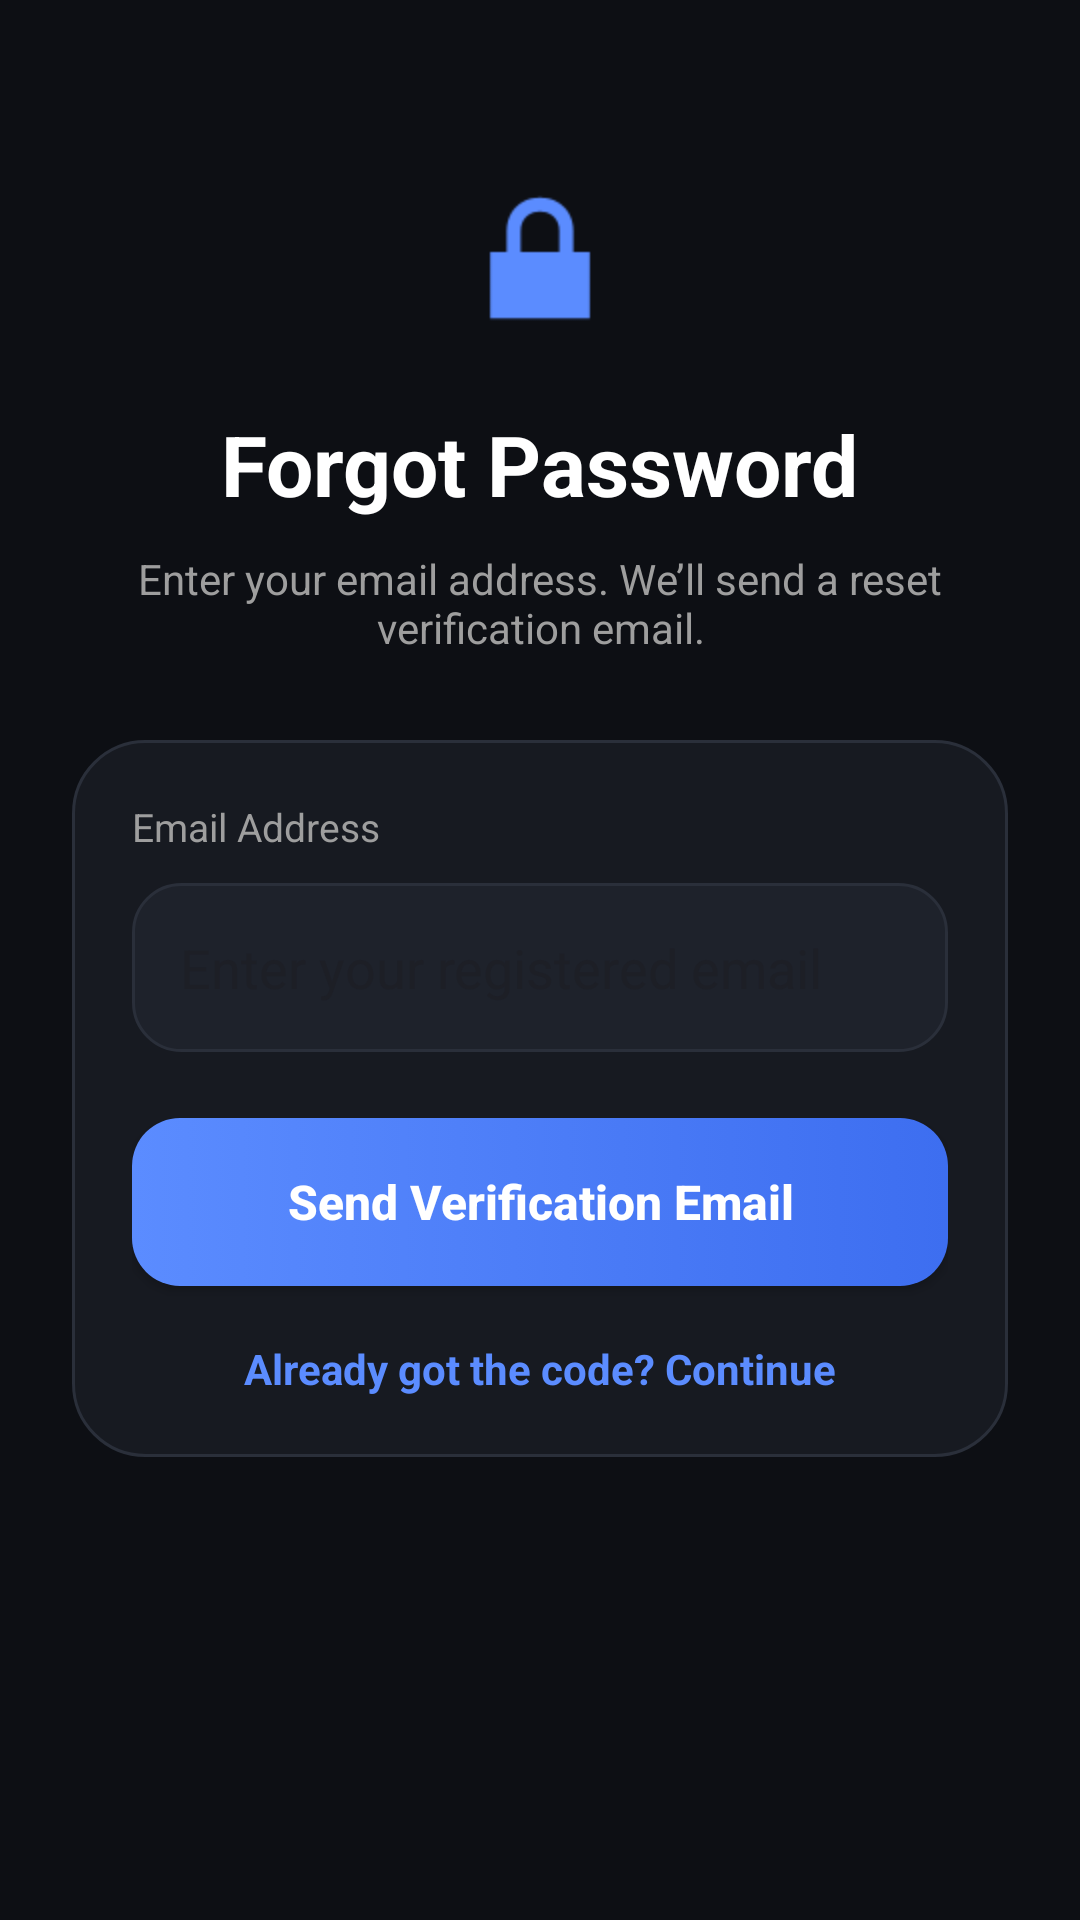

Point at icon controls on the screen. Image size 1080 x 1920, points as [x,y].
lock: [540,258]
